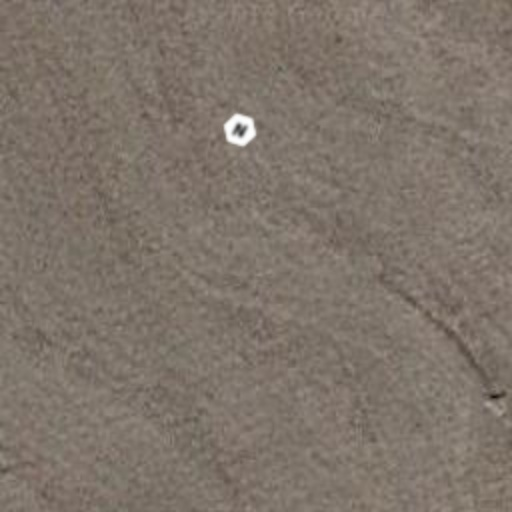hexagon: (218, 108, 262, 152)
